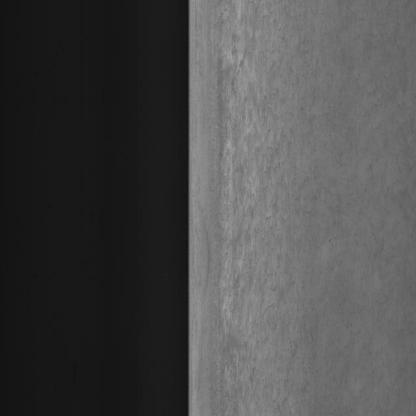silk_spot: (213, 32, 295, 416)
